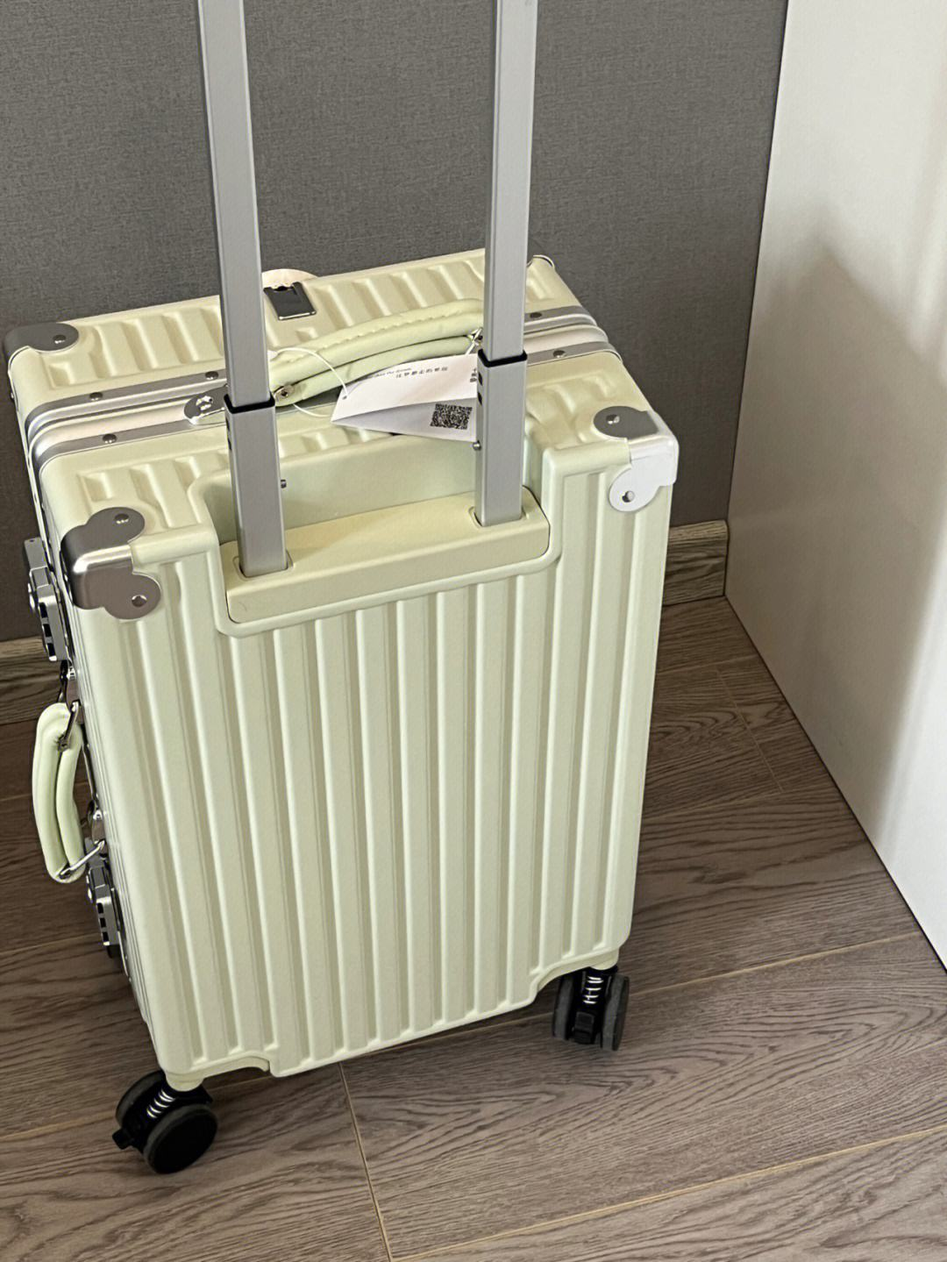box: (7, 238, 678, 1093)
handle: (182, 296, 482, 428), (30, 660, 110, 885)
wheel: (110, 1068, 218, 1176), (551, 970, 630, 1053)
